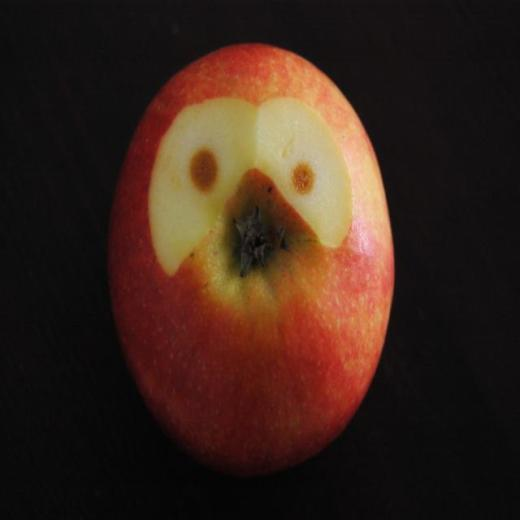Apple: (107, 43, 395, 478)
